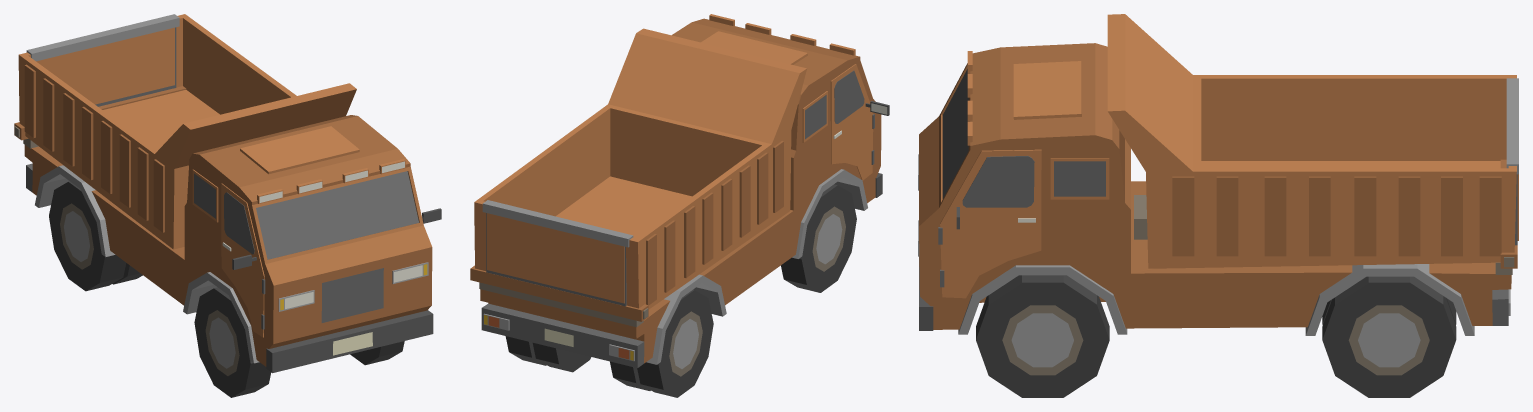
The model's file is kar7_1.fbx.
3 renders of one model, left to right at view 1: azimuth 30°, elevation 25°; view 2: azimuth 150°, elevation 25°; view 3: azimuth 270°, elevation 25°, orthographic. The views are drawn at different scales.
Parts seen in each view (by area): view 1: Cube_4, Cube_7, Cube_4_2, Cylinder, Cylinder_3, Cylinder_1; view 2: Cube_7, Cube_4, Cube_4_2, Cylinder, Cylinder_3, Cylinder_5; view 3: Cube_7, Cube_4, Cylinder_5, Cylinder_1, Cube_4_2.
Part boxes in pixels (x1,y1,x2,y2): Cube_4: [23, 115, 441, 373]; Cube_7: [14, 14, 356, 249]; Cube_4_2: [26, 14, 179, 104]; Cylinder: [49, 181, 142, 291]; Cylinder_3: [194, 287, 271, 397]; Cylinder_1: [350, 341, 404, 365]; Cube_7: [470, 28, 806, 321]; Cube_4: [479, 14, 889, 367]; Cube_4_2: [482, 200, 633, 303]; Cylinder: [610, 289, 713, 397]; Cylinder_3: [781, 184, 856, 292]; Cylinder_5: [505, 336, 591, 372]; Cube_7: [1107, 14, 1517, 268]; Cube_4: [918, 43, 1512, 335]; Cylinder_5: [1322, 276, 1456, 397]; Cylinder_1: [976, 275, 1109, 397]; Cube_4_2: [1506, 78, 1518, 240].
Size of the model in its own units: 285 by 319 by 599.
